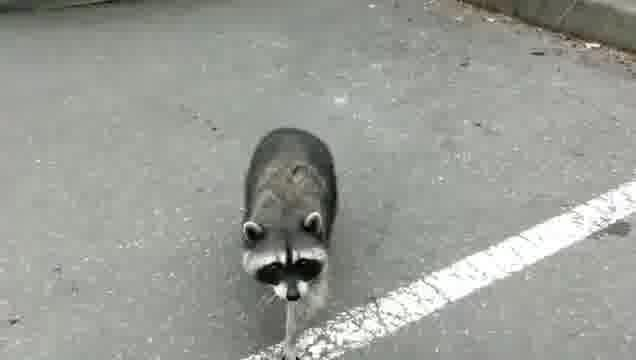raccoon: (242, 126, 339, 360)
